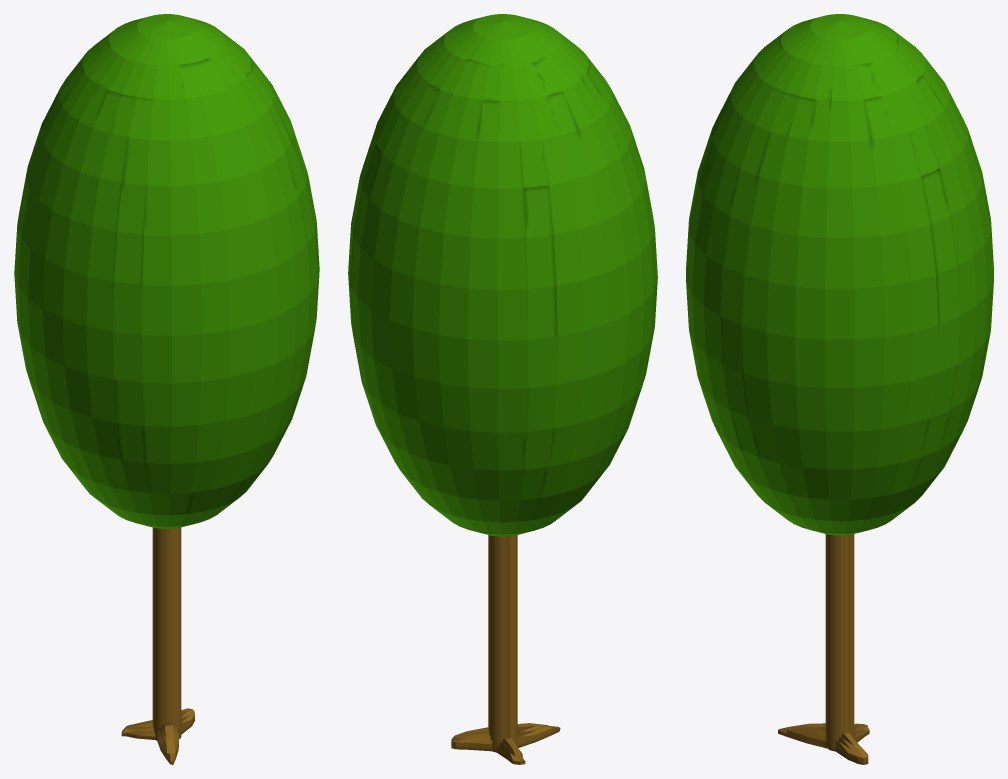
Rendered from tree.obj.
3 renders of one model, left to right at view 1: azimuth 30°, elevation 25°; view 2: azimuth 150°, elevation 25°; view 3: azimuth 270°, elevation 25°, orthographic.
Parts seen in each view (by area): view 1: sphere, cylinder; view 2: sphere, cylinder; view 3: sphere, cylinder.
Boxes of the visible parts, left/top/right/bottom form: sphere: left=14, top=14, right=319, bottom=528; cylinder: left=121, top=527, right=194, bottom=764; sphere: left=348, top=14, right=657, bottom=536; cylinder: left=451, top=535, right=560, bottom=764; sphere: left=686, top=14, right=993, bottom=535; cylinder: left=778, top=534, right=869, bottom=764.
Size of the model in its own units: 2 by 5.19 by 2.
